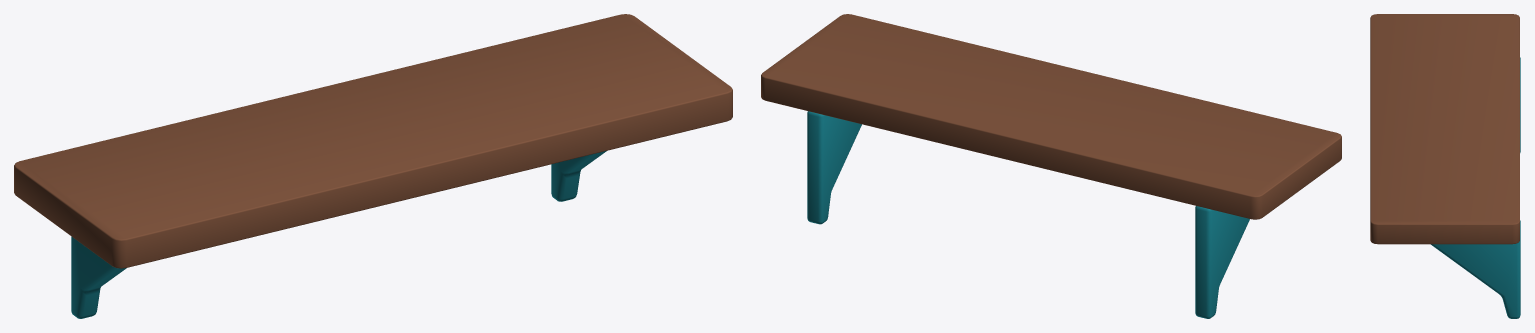
File: prateleira_cozinha_colonial.glb
3 views of the same model, side by side, from view 1: azimuth 30°, elevation 25°; view 2: azimuth 150°, elevation 25°; view 3: azimuth 270°, elevation 25° (orthographic). The views are drawn at different scales.
Visible parts, largest first — view 1: prateleira_cozinha_colonial; view 2: prateleira_cozinha_colonial; view 3: prateleira_cozinha_colonial.
Boxes of the visible parts, box(x1,y1,x2,y2) form: prateleira_cozinha_colonial: box(14, 14, 732, 318); prateleira_cozinha_colonial: box(761, 14, 1341, 318); prateleira_cozinha_colonial: box(1370, 14, 1520, 318).
Size of the model in its own units: 0.8 by 0.206 by 0.241.
1 material, 1 textured.
